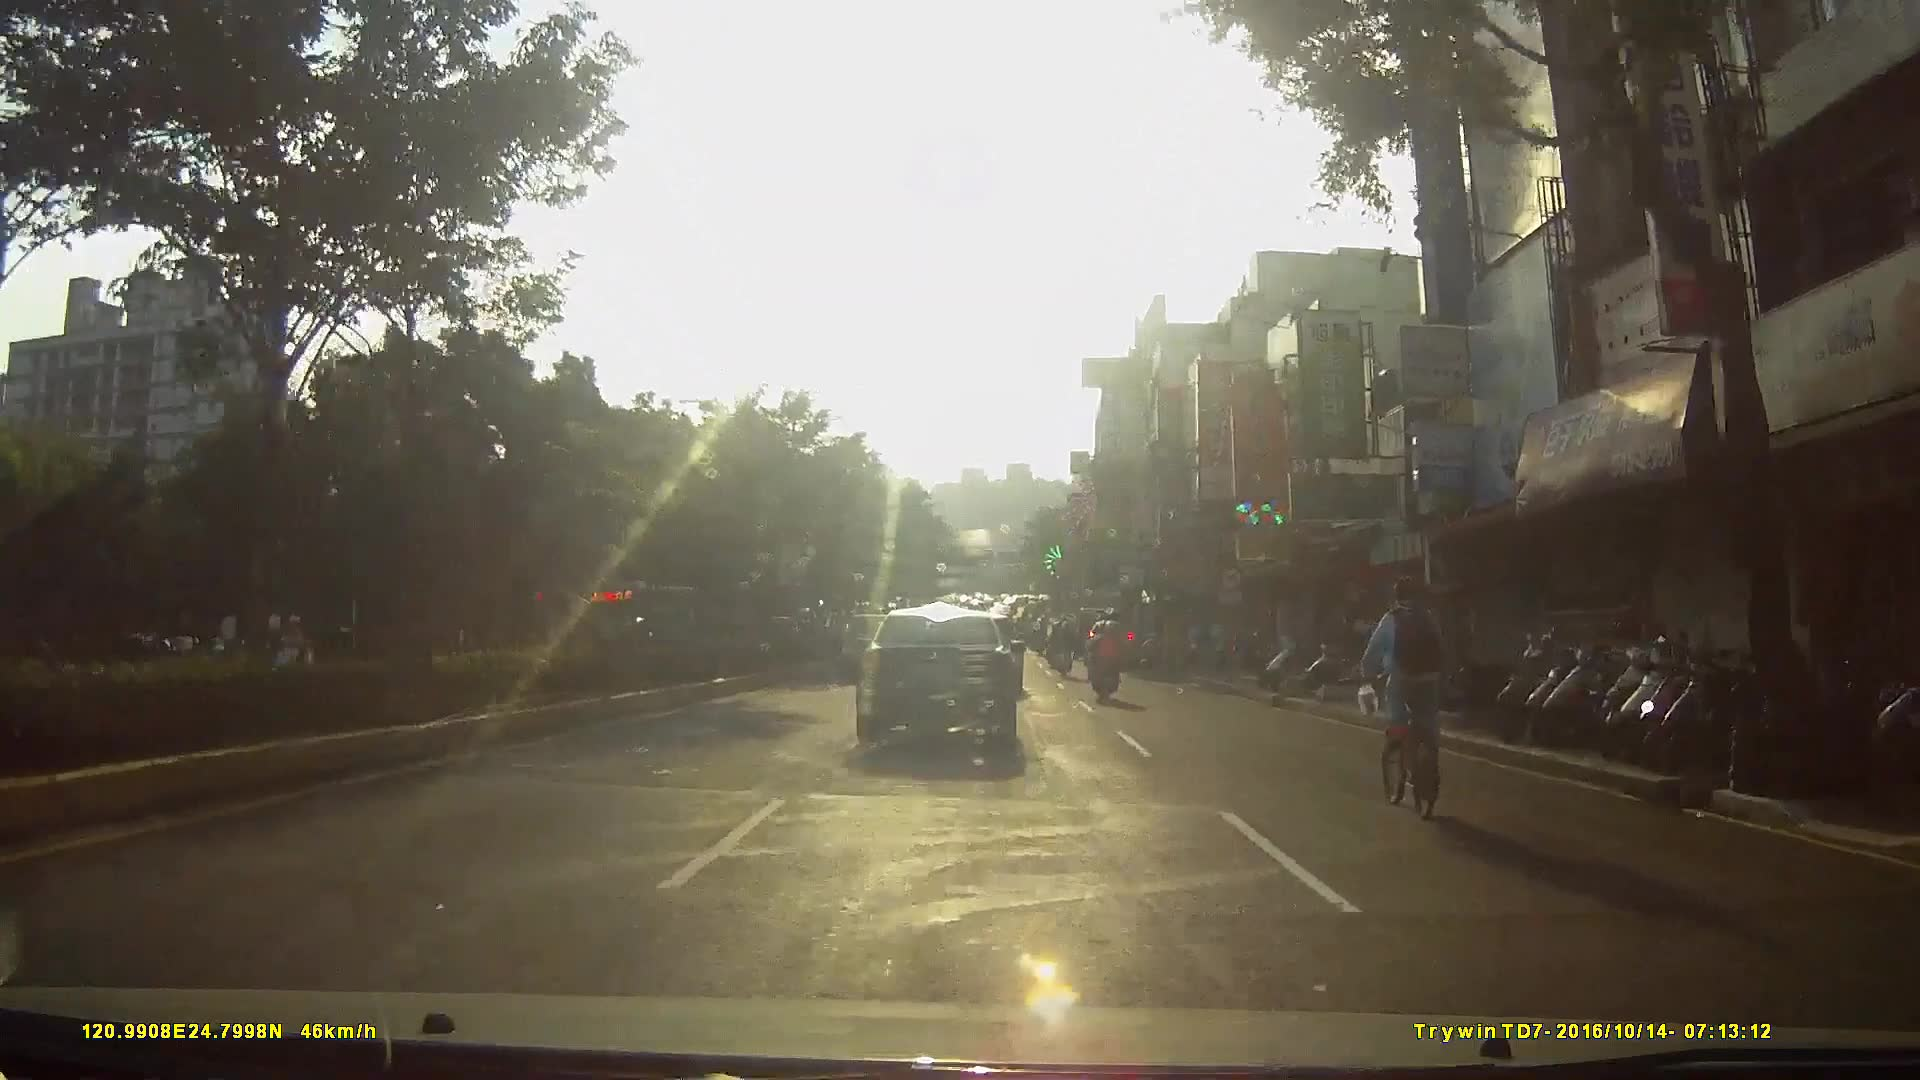rider: (1358, 572, 1451, 816), (1085, 623, 1122, 711), (1047, 617, 1074, 676)
vehicle: (851, 601, 1034, 767)
